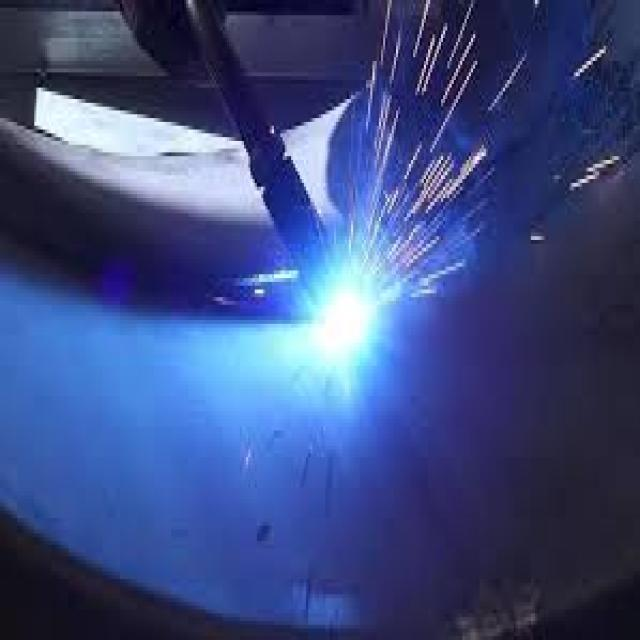welding: (320, 284, 371, 368)
